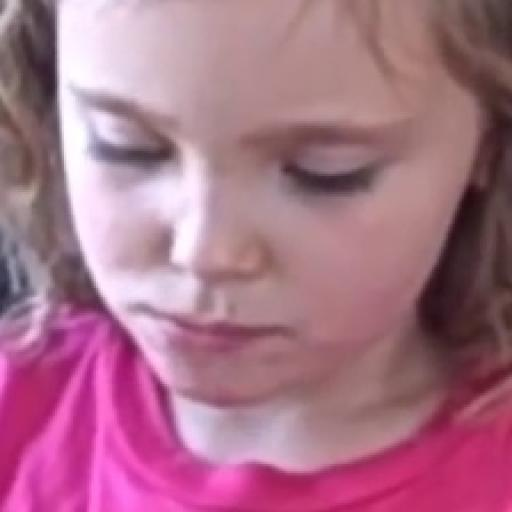Autism: (35, 5, 482, 512)
